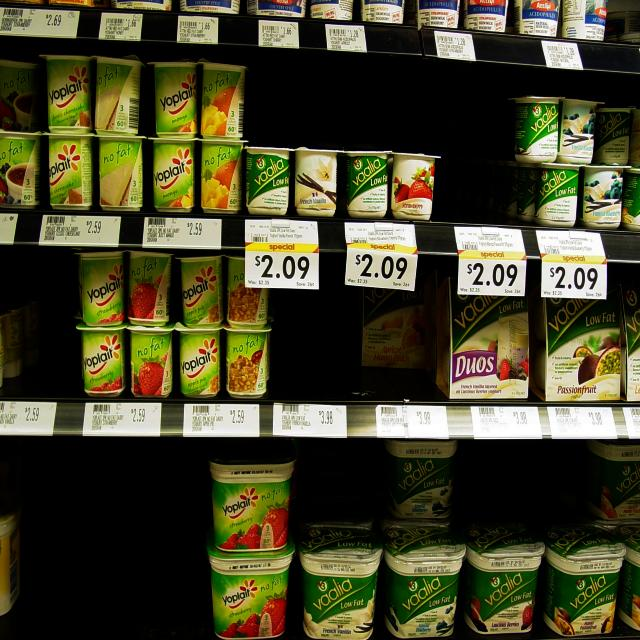empty_space: (31, 454, 200, 640), (256, 69, 436, 147), (274, 289, 362, 396), (462, 442, 554, 504), (438, 84, 476, 220), (43, 252, 77, 396), (301, 444, 371, 492), (3, 250, 41, 286)
